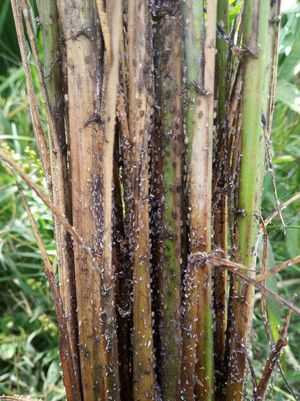Brown_hopper: (96, 309, 115, 351), (87, 169, 105, 204), (183, 253, 217, 267), (190, 77, 210, 100), (123, 138, 132, 152)
